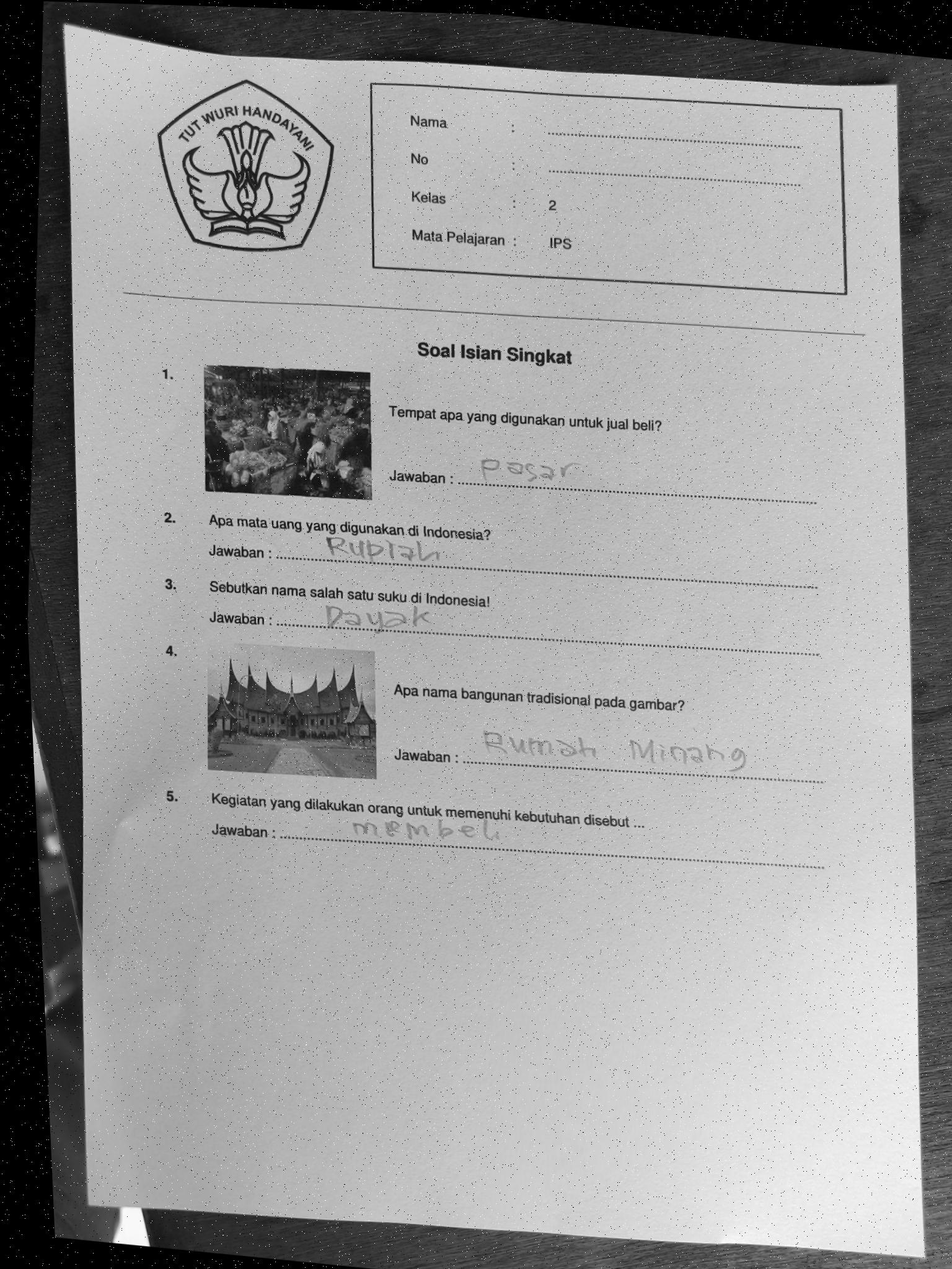soal-1: (149, 350, 836, 525)
soal-2: (151, 494, 839, 618)
soal-3: (155, 568, 842, 674)
soal-4: (151, 633, 839, 805)
soal-5: (155, 774, 849, 891)
